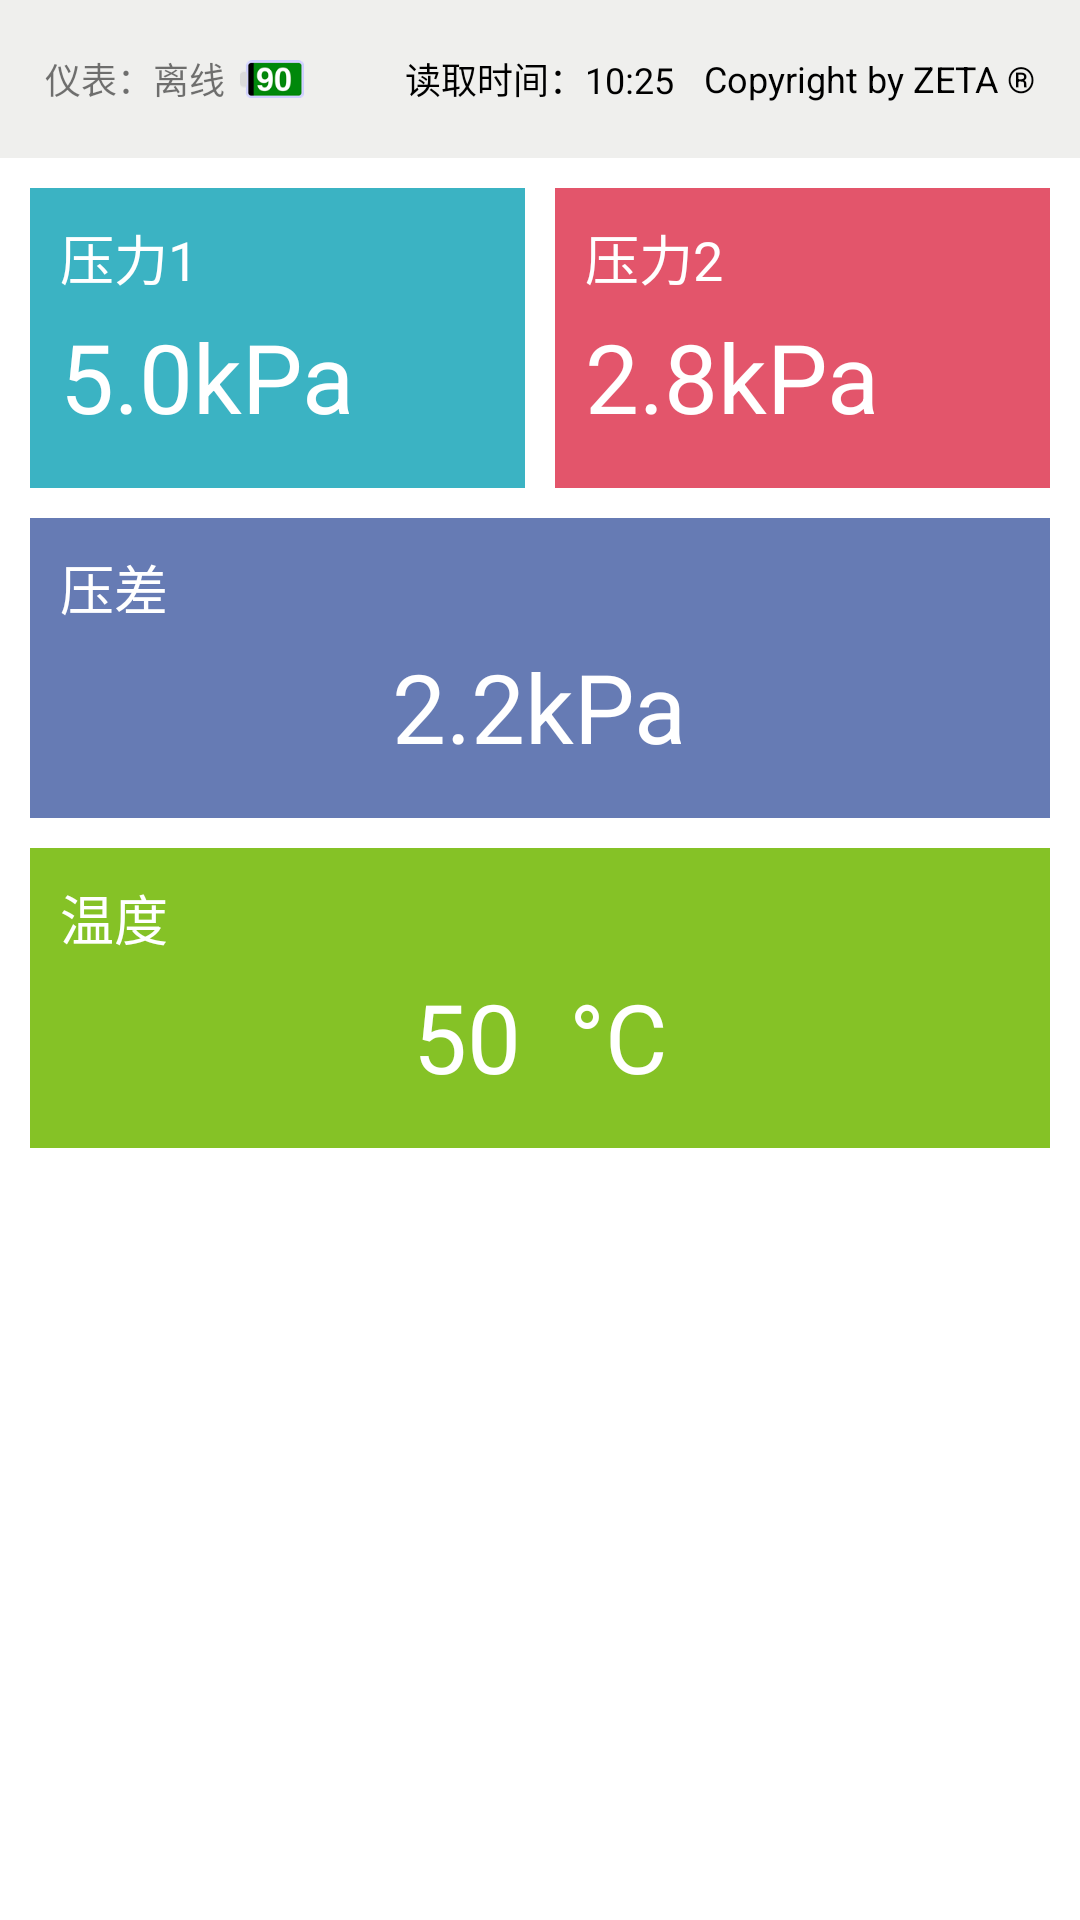

Where icons sit on this 1080px x 1920px app screen, as [x1, y1, x2, y2]:
battery: [246, 60, 304, 98]
